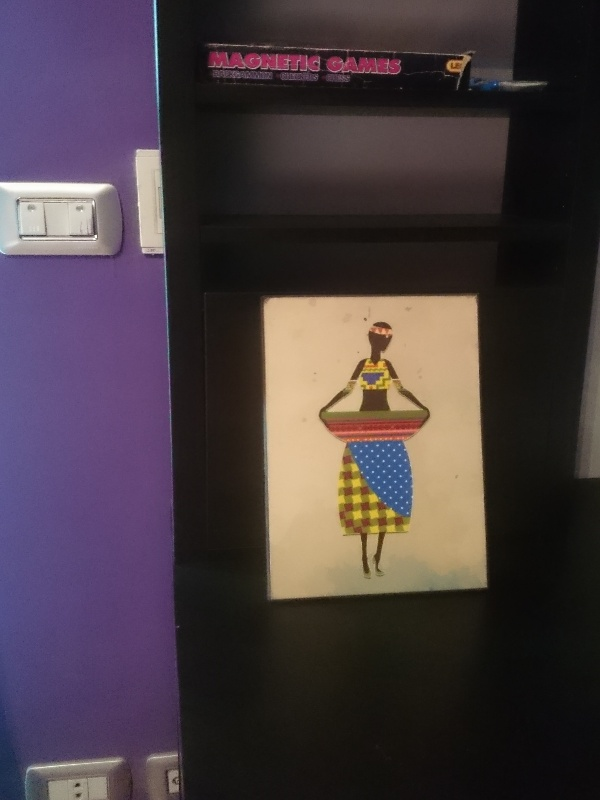my image: (267, 294, 484, 598)
